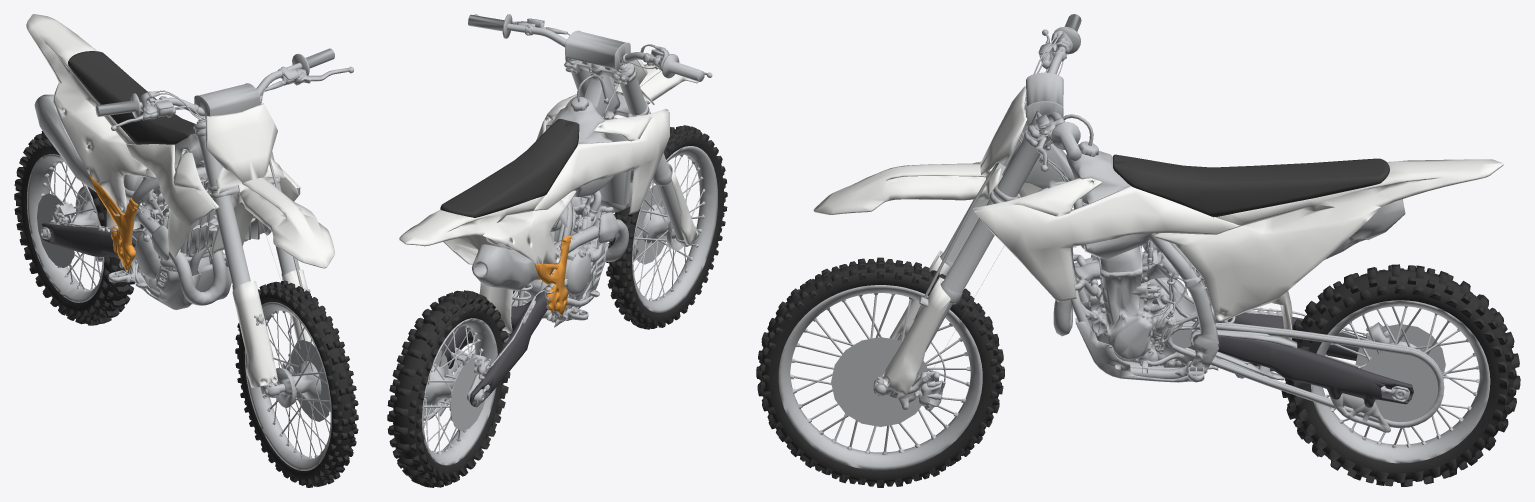
File: ktm-sxf.glb
3 views of the same model, side by side, from view 1: azimuth 30°, elevation 25°; view 2: azimuth 150°, elevation 25°; view 3: azimuth 270°, elevation 25° (orthographic). The views are drawn at different scales.
Bounding box in the file's own units: 0.9395 × 1.29 × 2.16.
